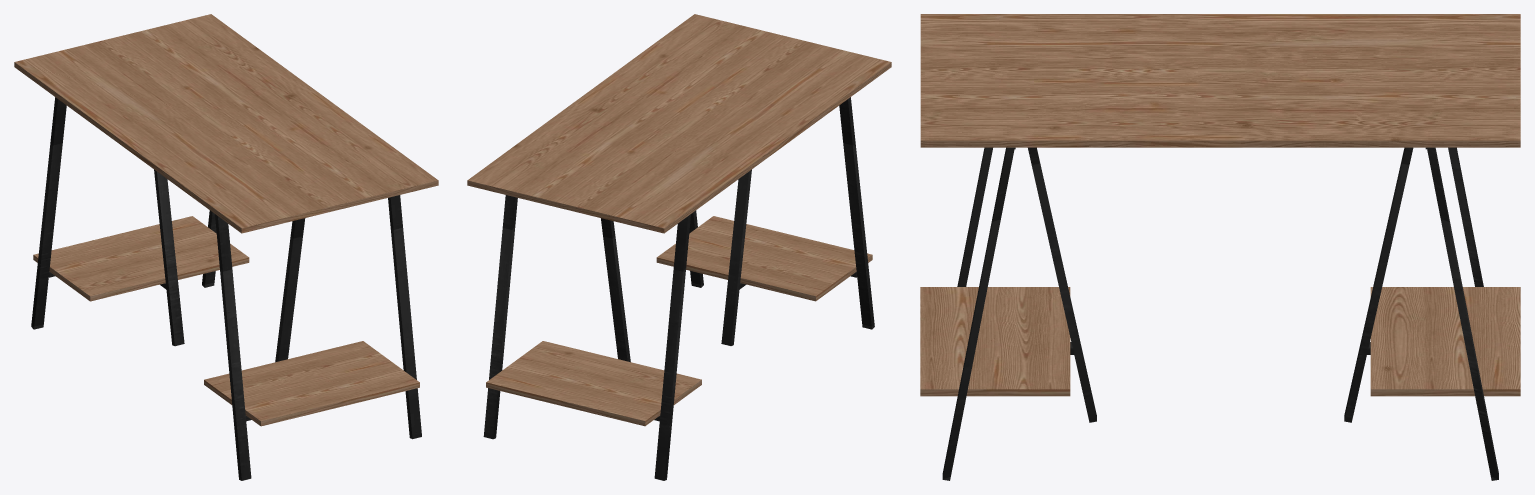
Rendered from study_desk_neoarch.glb.
The picture shows the model from 3 angles, left to right: view 1: azimuth 30°, elevation 25°; view 2: azimuth 150°, elevation 25°; view 3: azimuth 270°, elevation 25°; orthographic projection. The views are drawn at different scales.
Visible parts, largest first — view 1: Wood - Walnut Horizontal Semi Dark _Wood - Walnut Horizontal, Metal - Iron Black _Metal - Iron Black _0; view 2: Wood - Walnut Horizontal Semi Dark _Wood - Walnut Horizontal, Metal - Iron Black _Metal - Iron Black _0; view 3: Wood - Walnut Horizontal Semi Dark _Wood - Walnut Horizontal, Metal - Iron Black _Metal - Iron Black _0.
Part boxes in pixels (x1,y1,x2,y2): Wood - Walnut Horizontal Semi Dark _Wood - Walnut Horizontal: (14,14,438,426); Metal - Iron Black _Metal - Iron Black _0: (31,97,421,480); Wood - Walnut Horizontal Semi Dark _Wood - Walnut Horizontal: (467,14,891,426); Metal - Iron Black _Metal - Iron Black _0: (483,97,874,480); Wood - Walnut Horizontal Semi Dark _Wood - Walnut Horizontal: (920,14,1520,396); Metal - Iron Black _Metal - Iron Black _0: (942,147,1498,480).
Size of the model in its own units: 0.5949 by 0.7554 by 1.19.
Materials: 5 (4 with a texture image).
